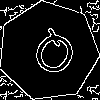Q: (23, 26, 82, 87)
